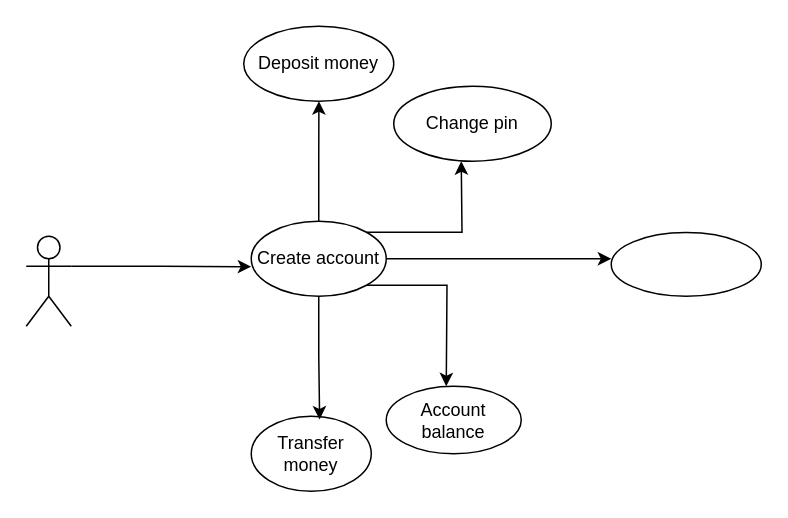
Image size: 788x518. Some labels were removed from this diagram. Each missing label, with the box of its shape:
ATM: (25, 235, 71, 326)
Withdraw money: (610, 231, 761, 296)
